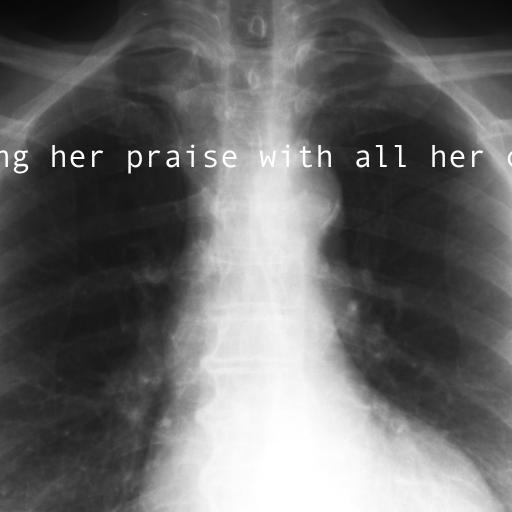Andale Mono: (0, 144, 512, 174)
